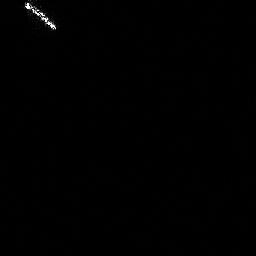ship: (22, 1, 58, 31)
